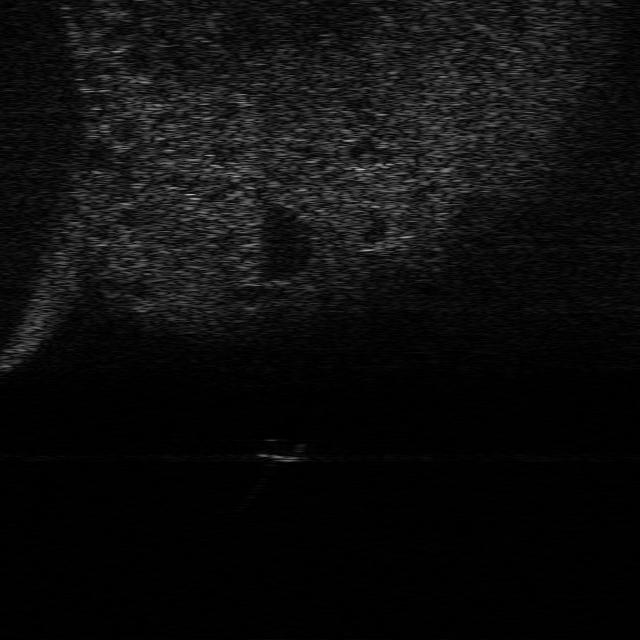cube: (258, 436, 308, 462)
